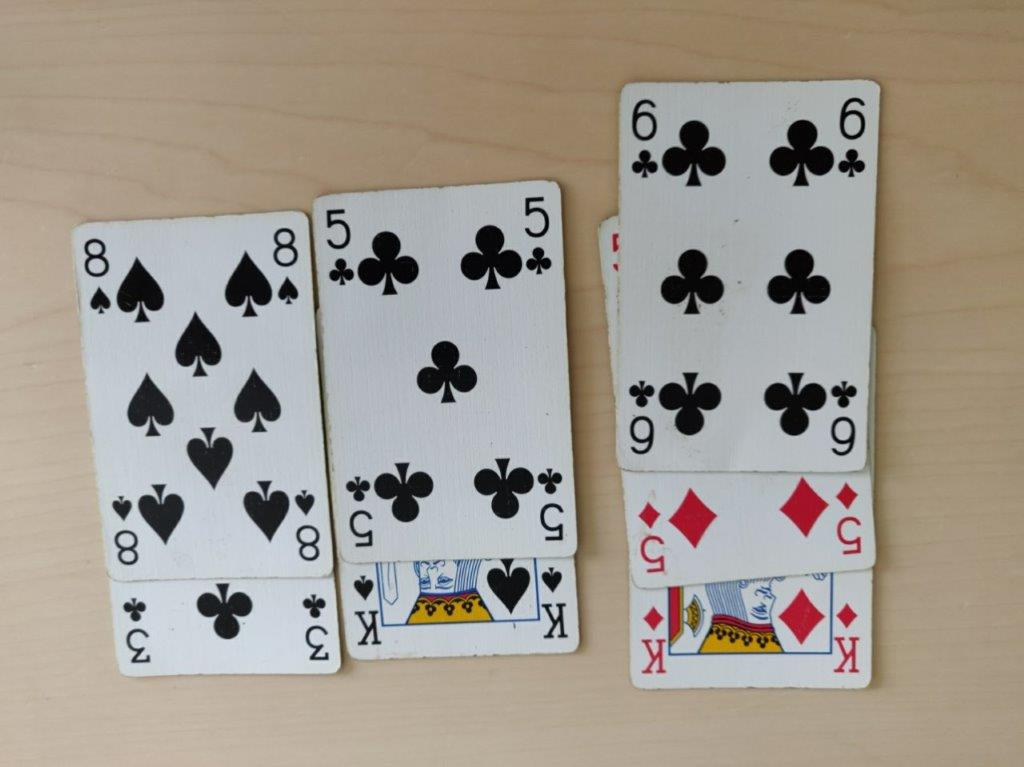3C: (120, 573, 332, 677)
5C: (322, 191, 576, 555)
5D: (629, 468, 871, 580)
6C: (628, 87, 873, 470)
8S: (79, 221, 325, 574)
KD: (632, 575, 869, 686)
KS: (342, 551, 574, 666)
